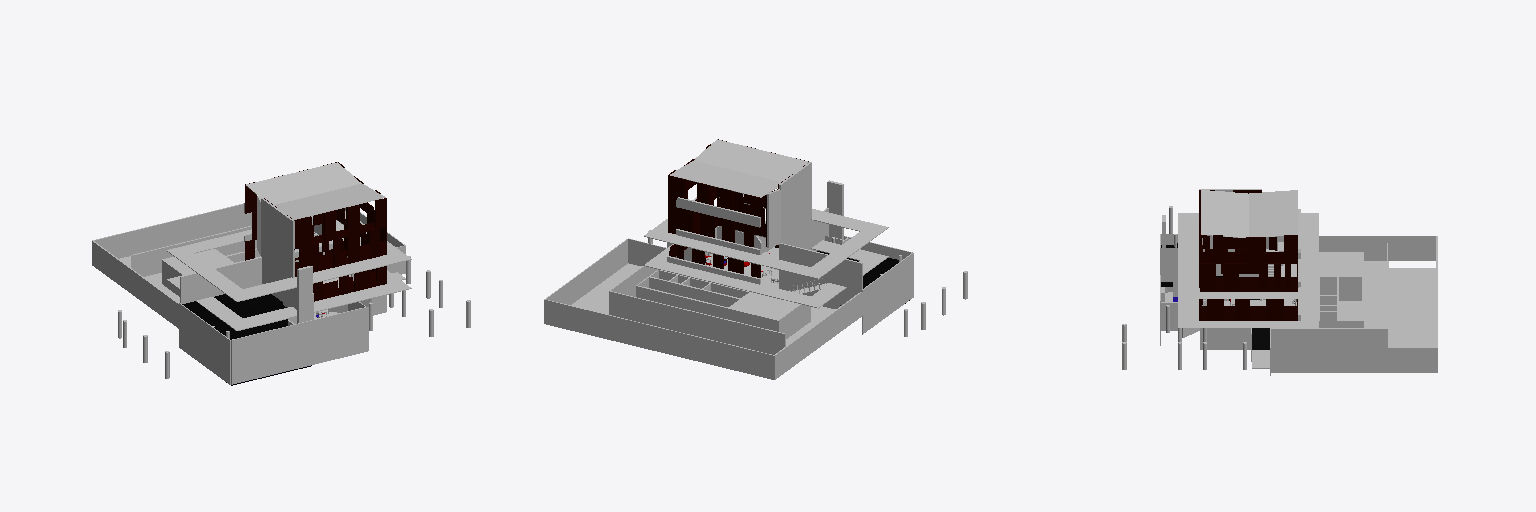
3 views of the same model, side by side, from view 1: azimuth 30°, elevation 25°; view 2: azimuth 150°, elevation 25°; view 3: azimuth 270°, elevation 25° (orthographic).
Visible parts, largest first — view 1: baie_vitree_cafet, mur_couloir.001, plafond_bar.001, plafond_bar, Cube.002, baie_vitree_cafet.001, mur_hub_amphi_haut, toit_amphi, Cube.001, mur_amphi_escalier, mur_couloir.002, Cube (+3 smaller); view 2: mur_couloir.001, mur_couloir.002, murs_toilettes_couloirs, plafond_bar.001, plafond_bar, mur_hub_amphi_haut, mur_amphi_escalier, Cube.001, baie_vitree_cafet.001, Cube, Cube.002, sol_droite_bat (+8 smaller); view 3: mur_couloir.001, sol_droite_bat, plafond_bar.001, mur_couloir, Cube.002, Cube.001, murs_toilettes_couloirs, plafond_bar, sol_hub, Cube, baie_vitree_hall1, mur_hub_amphi (+1 smaller).
Part boxes in pixels (x1,y1,x2,y2): baie_vitree_cafet: (231,307,368,384); mur_couloir.001: (92,203,404,315); plafond_bar.001: (167,211,411,301); plafond_bar: (167,238,411,330); Cube.002: (246,162,361,204); baie_vitree_cafet.001: (179,303,230,384); mur_hub_amphi_haut: (257,196,294,277); toit_amphi: (182,294,287,339); Cube.001: (274,184,385,219); mur_amphi_escalier: (180,257,261,303); mur_couloir.002: (131,226,251,276); Cube: (162,249,232,296); mur_couloir.001: (544,239,844,379); mur_couloir.002: (609,291,785,354); murs_toilettes_couloirs: (636,256,760,318); plafond_bar.001: (644,194,888,278); plafond_bar: (644,226,888,308); mur_hub_amphi_haut: (767,162,811,247); mur_amphi_escalier: (779,243,862,308); Cube.001: (694,139,808,181); baie_vitree_cafet.001: (862,253,913,334); Cube: (728,292,810,338); Cube.002: (670,161,780,197); sol_droite_bat: (571,263,641,314); mur_couloir.001: (1270,236,1437,372); sol_droite_bat: (1339,268,1435,347); plafond_bar.001: (1178,213,1318,298); mur_couloir: (1271,328,1387,347); Cube.002: (1249,190,1297,237); Cube.001: (1201,190,1248,237); murs_toilettes_couloirs: (1298,276,1363,327); plafond_bar: (1178,242,1318,327); sol_hub: (1165,261,1388,327); Cube: (1319,252,1363,275); baie_vitree_hall1: (1200,328,1250,349); mur_hub_amphi: (1160,248,1259,300).
Bounding box in the file's own units: 104 × 45.08 × 98.18.
27 materials, 1 textured.